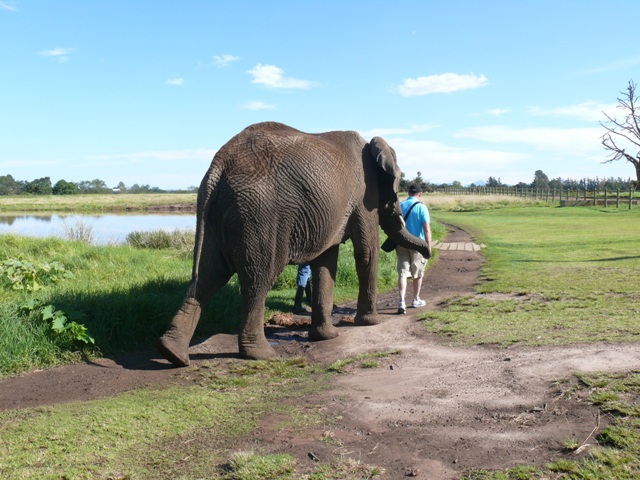elephant: (153, 111, 435, 370)
